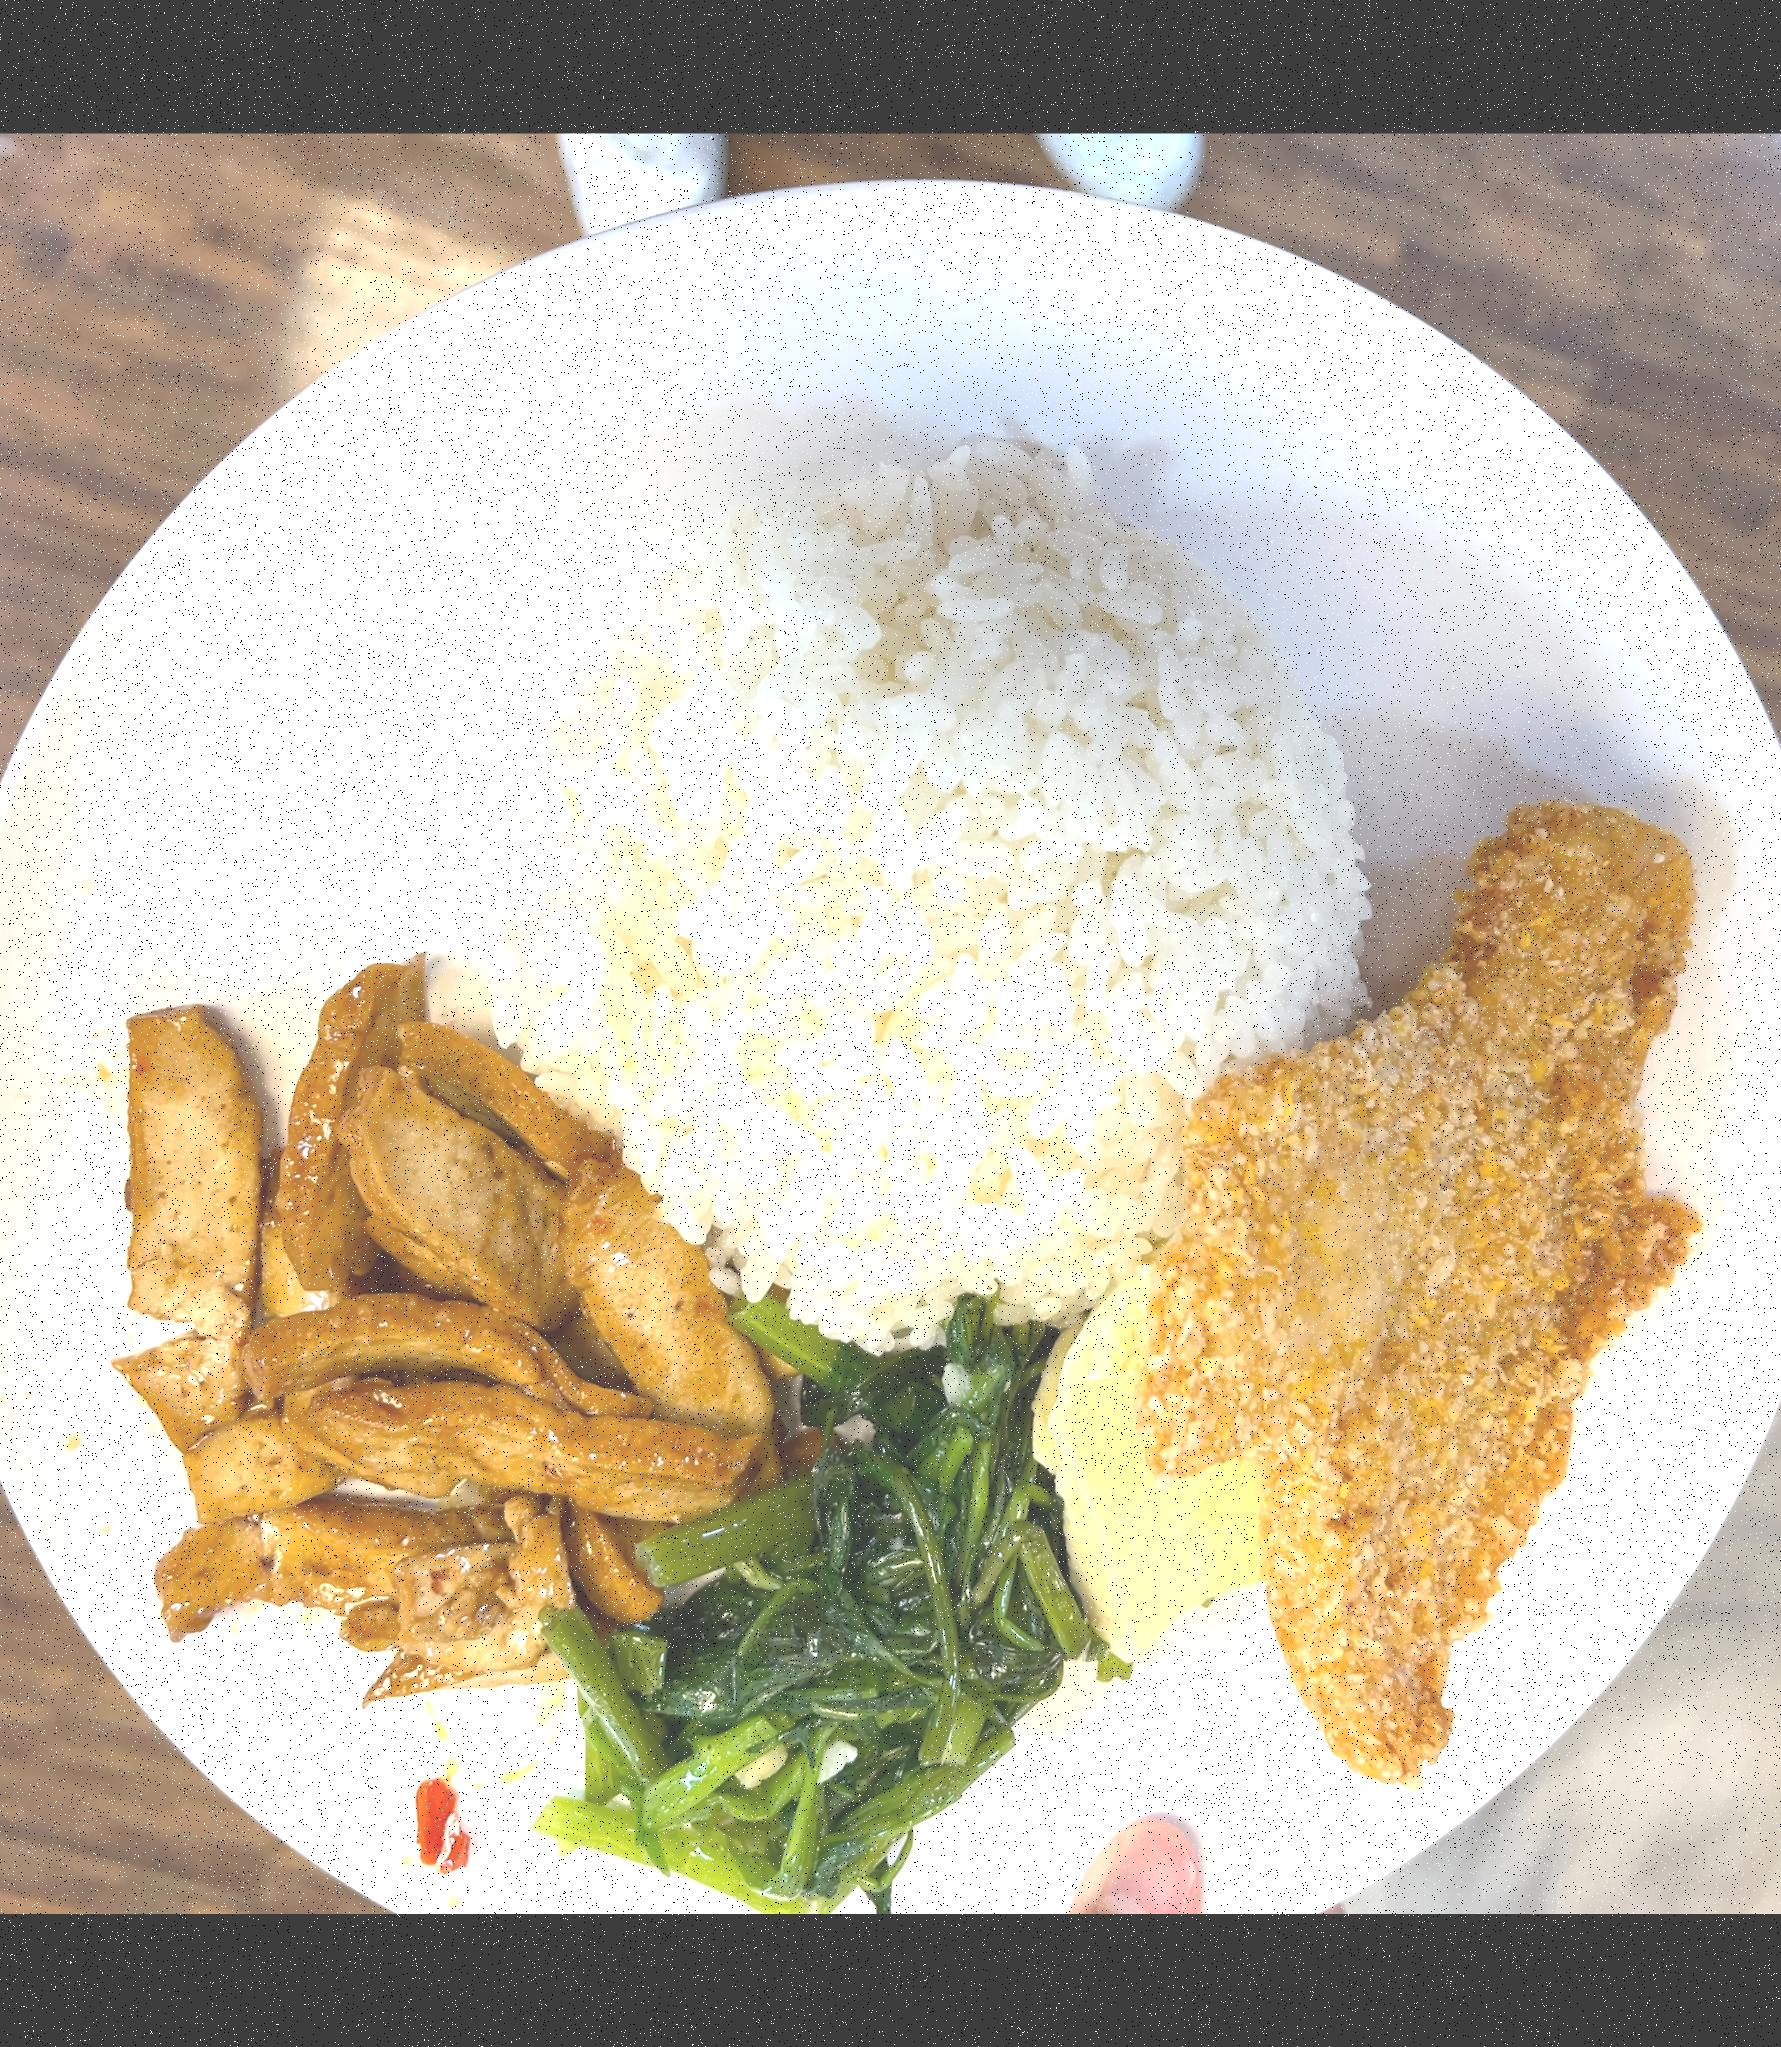chicken steak: (1125, 783, 1694, 1814)
plate: (0, 176, 1781, 1915)
side dish: (82, 996, 747, 1706), (522, 1257, 1081, 1889), (1018, 1225, 1269, 1662)
white rice: (428, 460, 1382, 1347)
